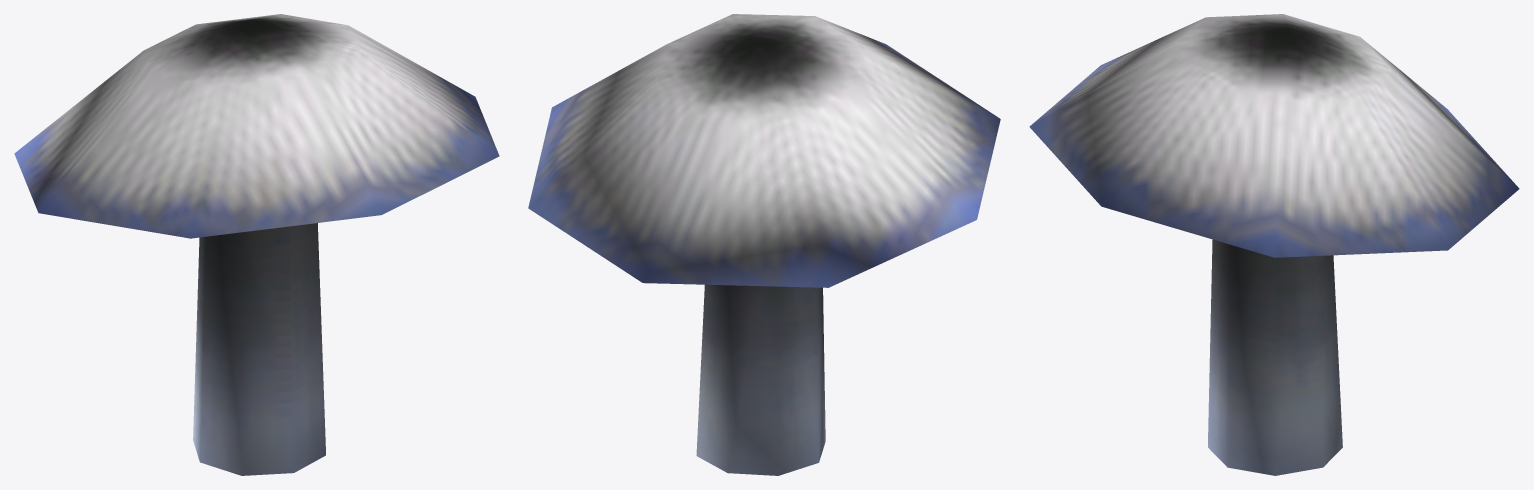
File: INST_TROLLHOLE_SHROOMA1.obj
3 renders of one model, left to right at view 1: azimuth 30°, elevation 25°; view 2: azimuth 150°, elevation 25°; view 3: azimuth 270°, elevation 25°, orthographic. The views are drawn at different scales.
Parts seen in each view (by area): view 1: hroomA1_Lod1_01; view 2: hroomA1_Lod1_01; view 3: hroomA1_Lod1_01.
Boxes of the visible parts, bbox=[...] form: hroomA1_Lod1_01: bbox=[14, 14, 499, 475]; hroomA1_Lod1_01: bbox=[528, 14, 1000, 475]; hroomA1_Lod1_01: bbox=[1029, 14, 1519, 475].
Size of the model in its own units: 35.55 by 34.76 by 35.22.
